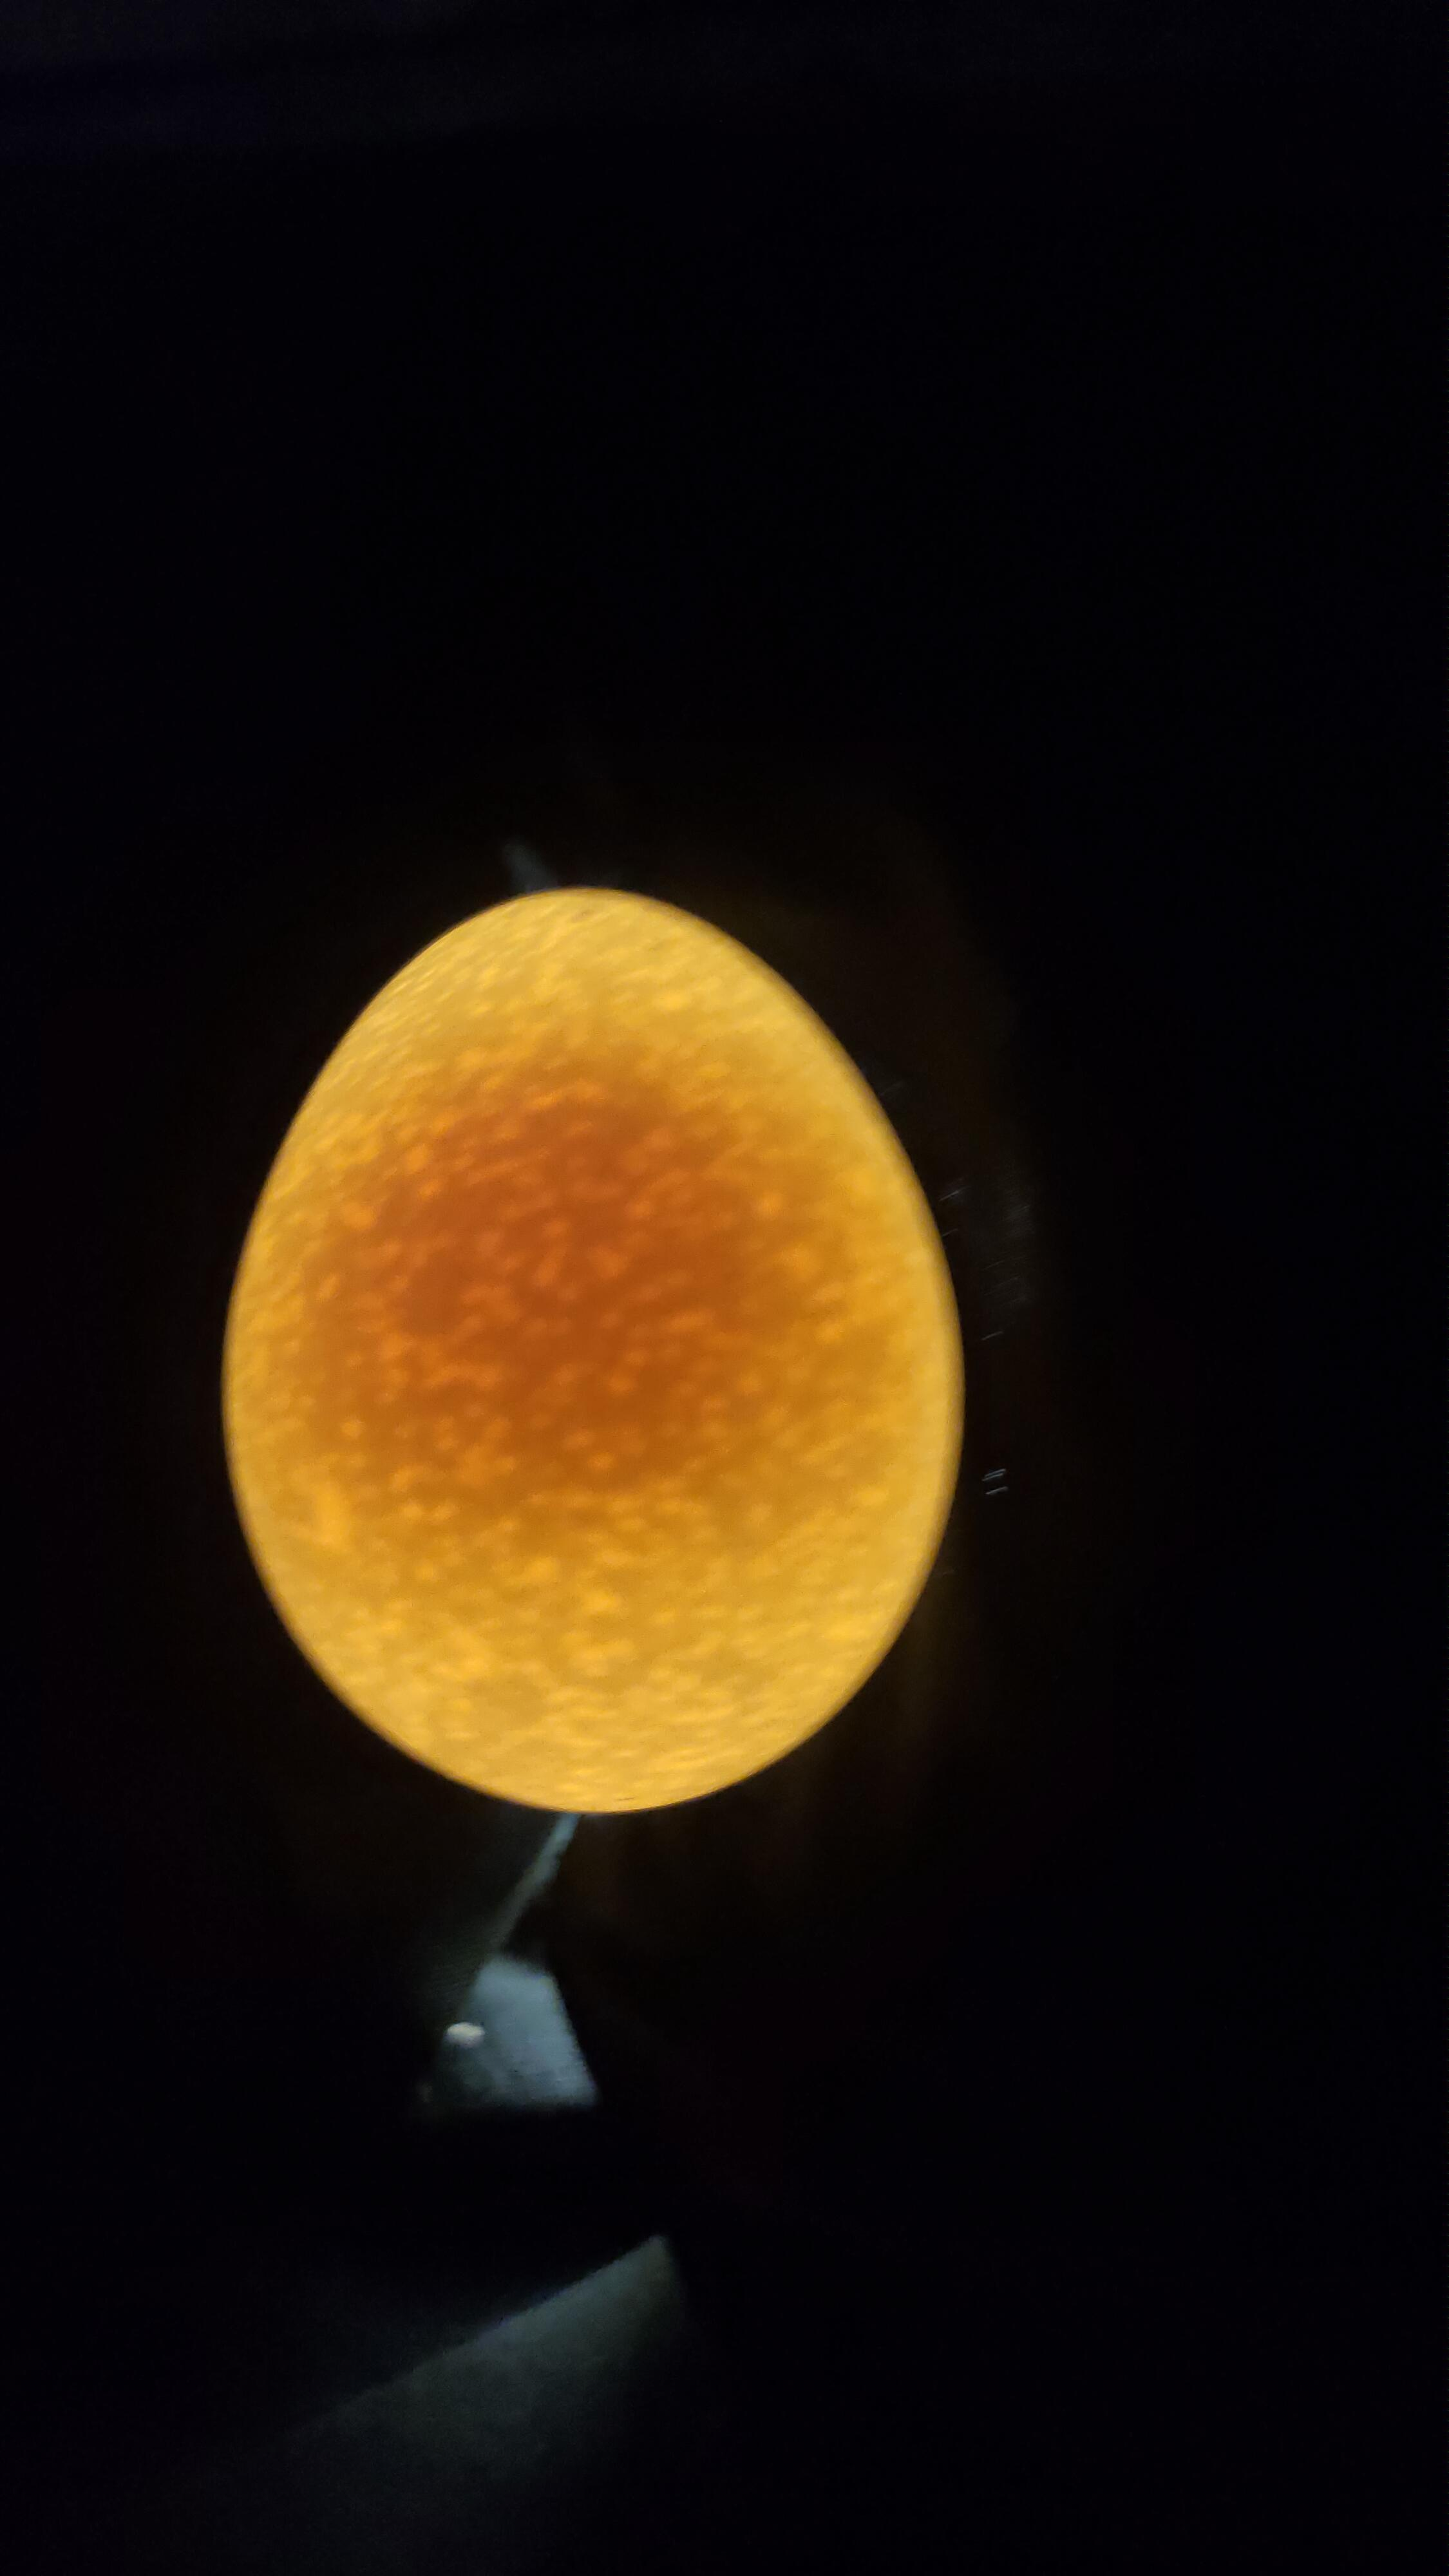A - Good: (180, 837, 1037, 1854)
